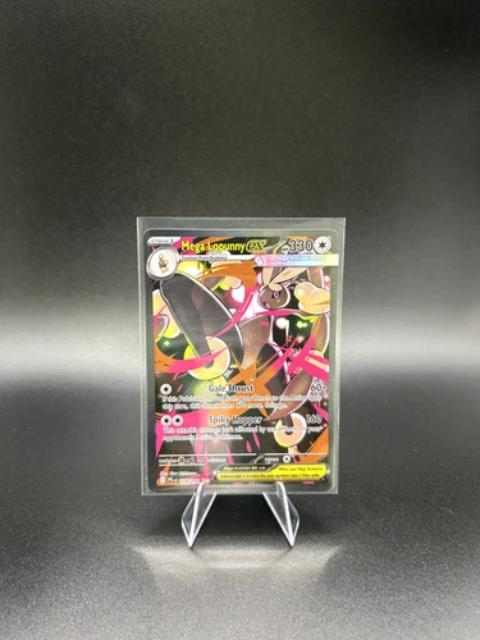Card: (139, 224, 344, 496)
Name: (176, 237, 273, 257)
